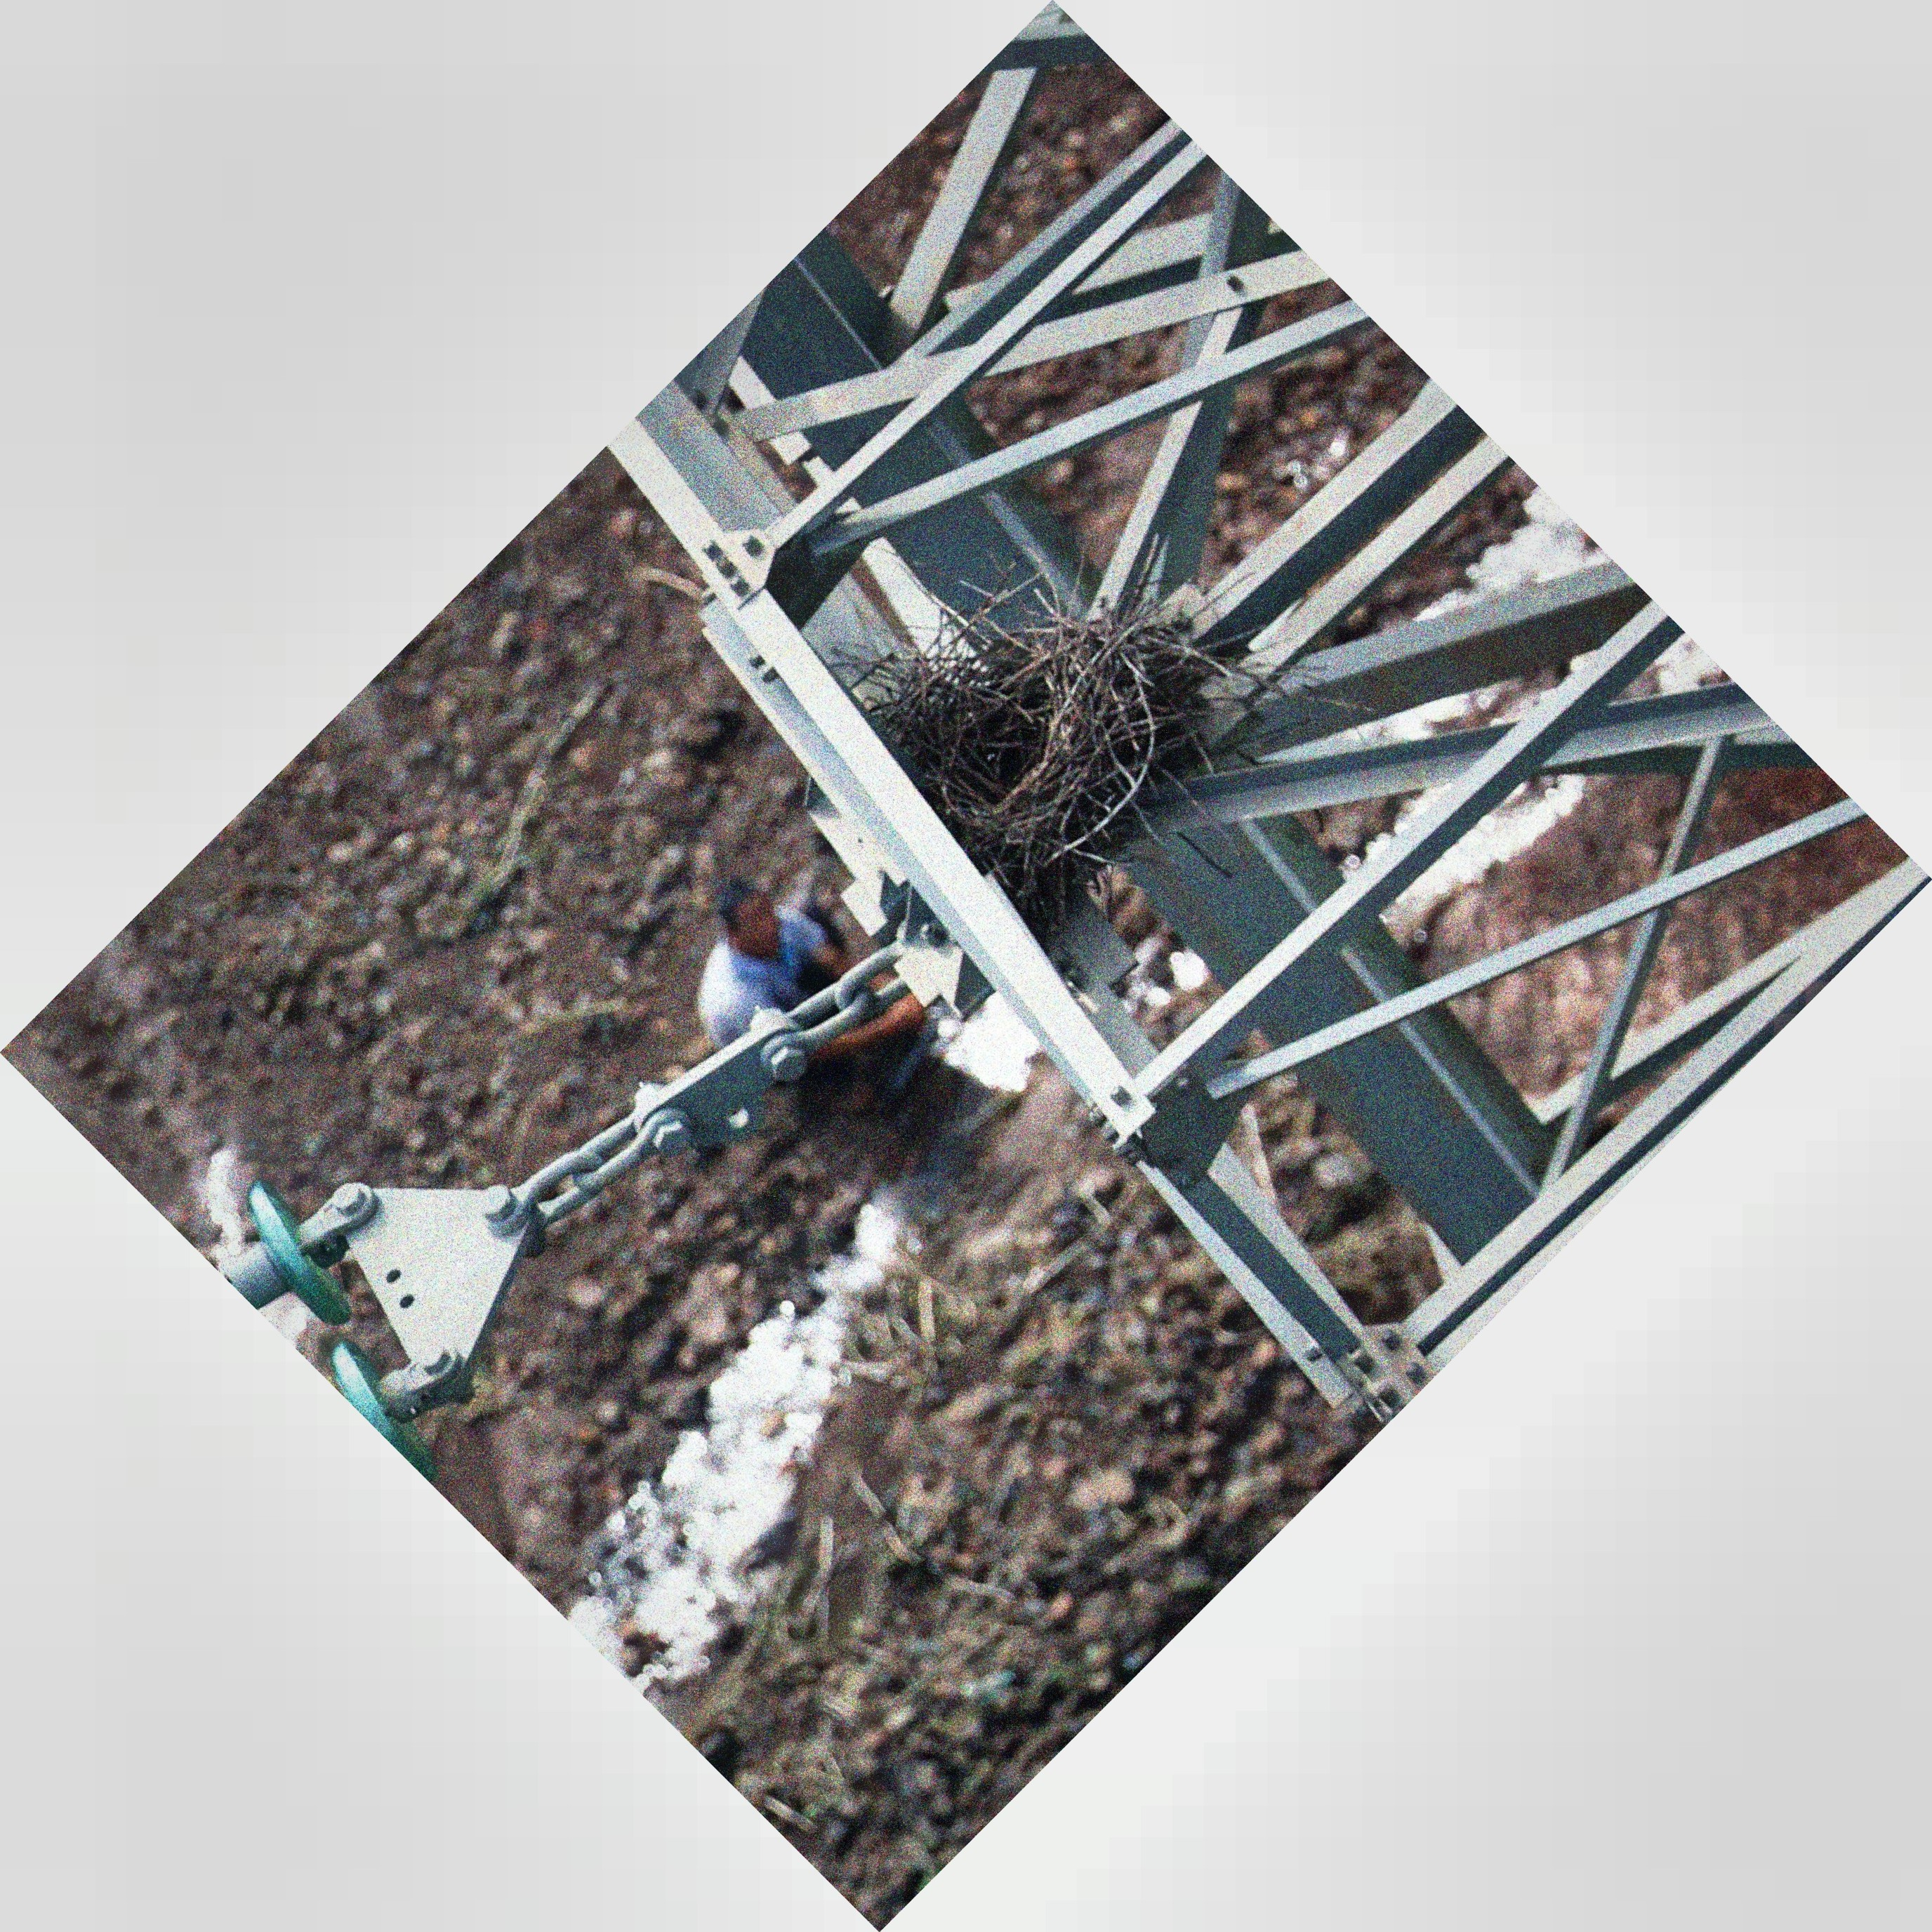niaowo: (821, 550, 1246, 945)
